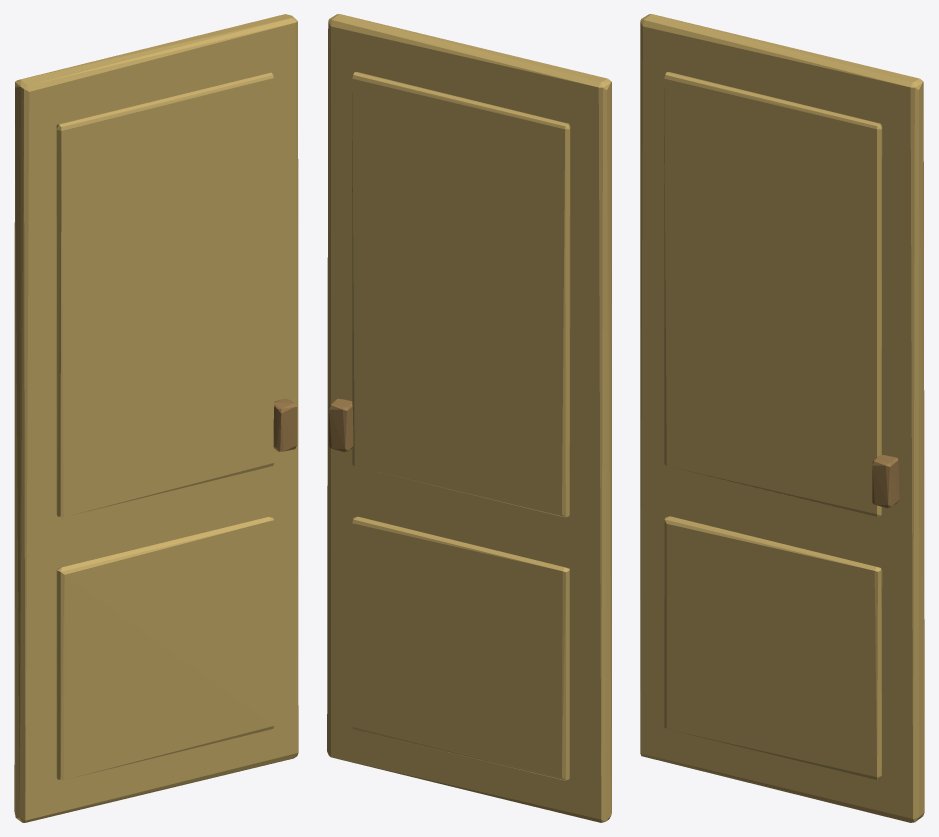
File: SM_Kit_Door_Panel_LOD1.glb
The picture shows the model from 3 angles, left to right: view 1: azimuth 30°, elevation 25°; view 2: azimuth 150°, elevation 25°; view 3: azimuth 330°, elevation 25°; orthographic projection.
Visible parts, largest first — view 1: SM_Kit_Door_Panel_LOD1; view 2: SM_Kit_Door_Panel_LOD1; view 3: SM_Kit_Door_Panel_LOD1.
Boxes of the visible parts, x1,y1,x2,y2 form: SM_Kit_Door_Panel_LOD1: (14,14,298,822); SM_Kit_Door_Panel_LOD1: (327,14,611,822); SM_Kit_Door_Panel_LOD1: (640,14,924,822).
Size of the model in its own units: 0.82 by 2.08 by 0.1761.
